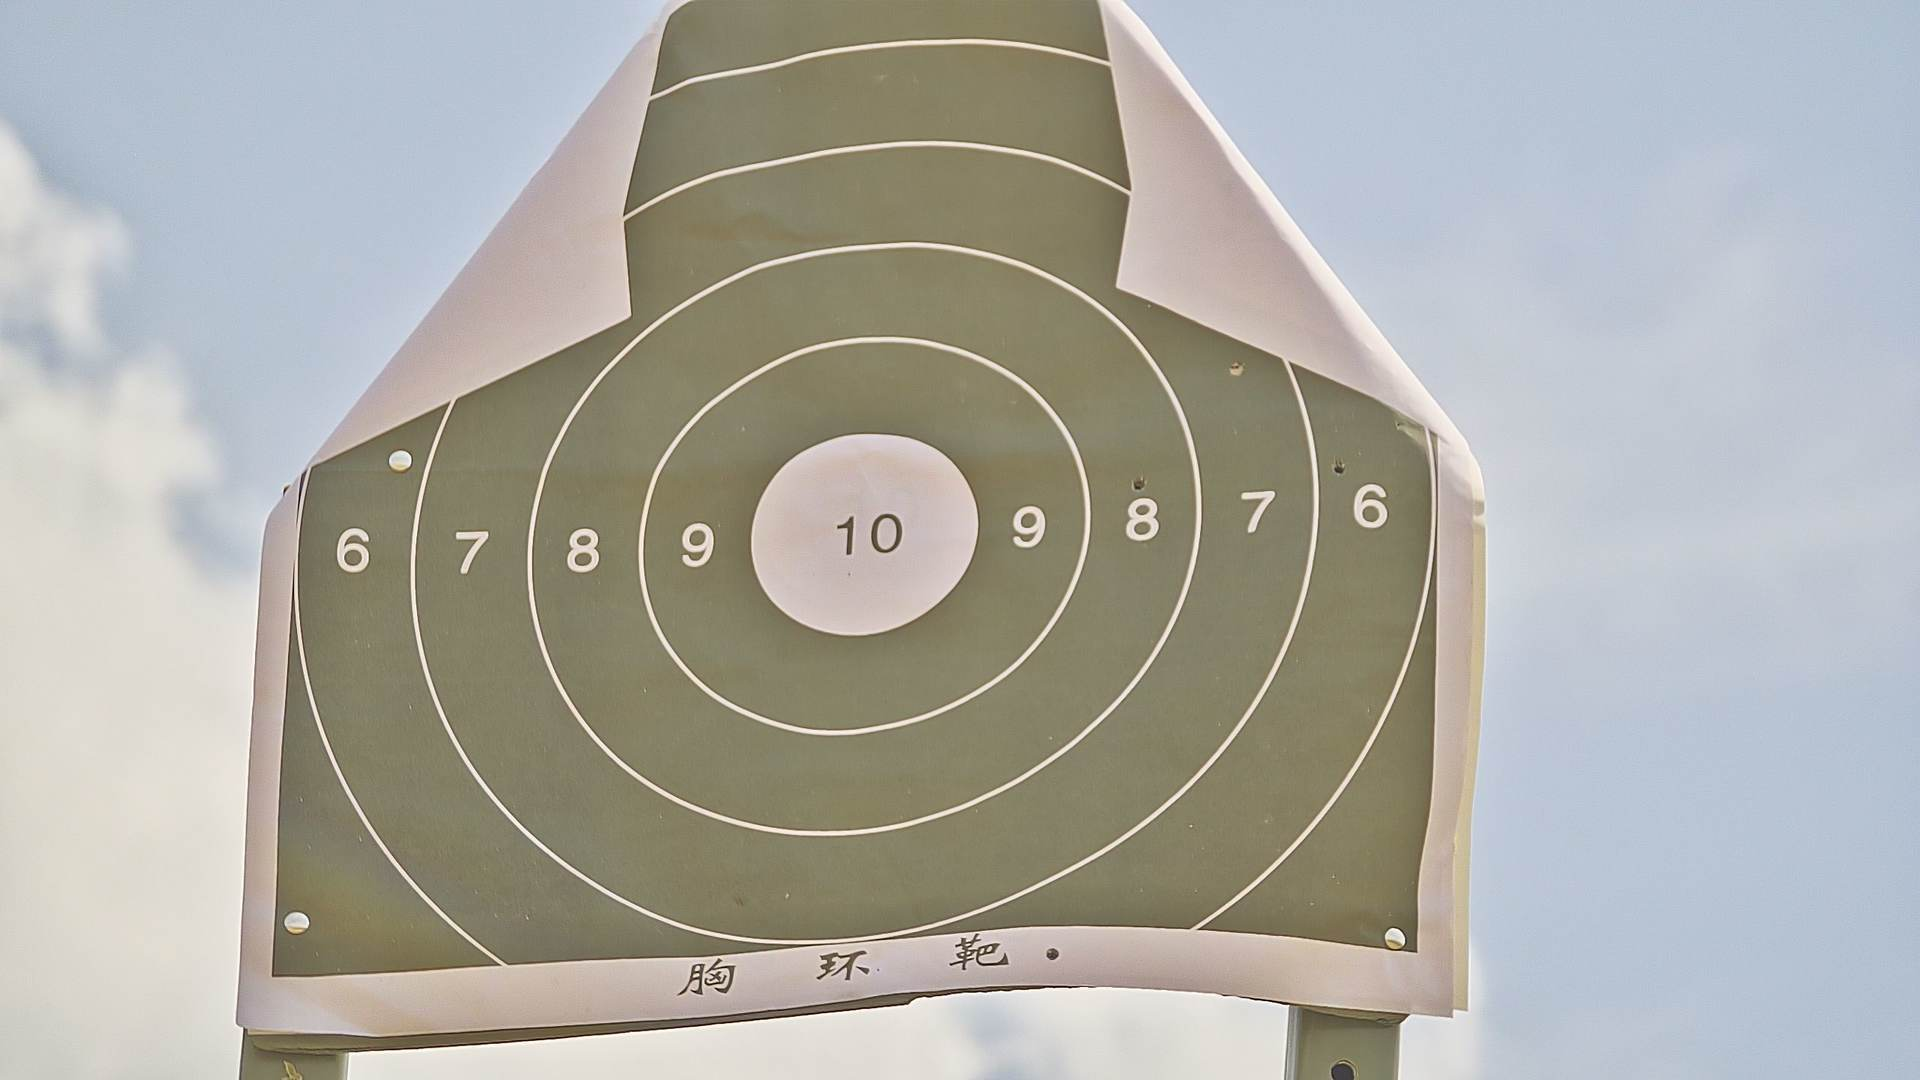hole: (1044, 945, 1063, 963), (1331, 460, 1349, 473), (1230, 364, 1246, 378), (1131, 477, 1147, 489)
kernel: (855, 534, 866, 535)
target: (284, 3, 1422, 959)
ten: (750, 433, 981, 640)
